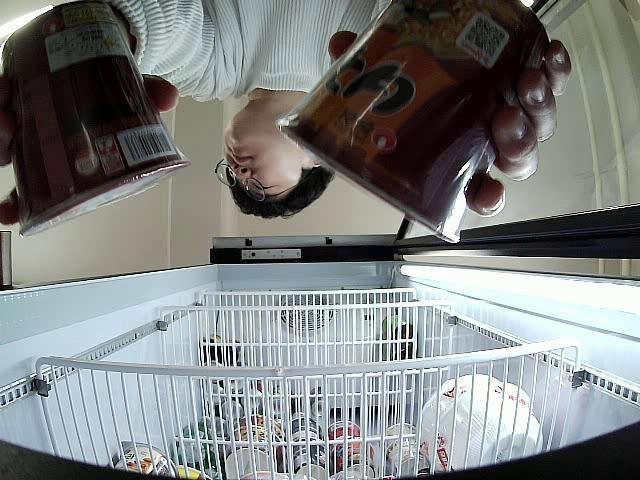06_nuguri_S: (274, 0, 548, 245), (2, 2, 190, 240)
